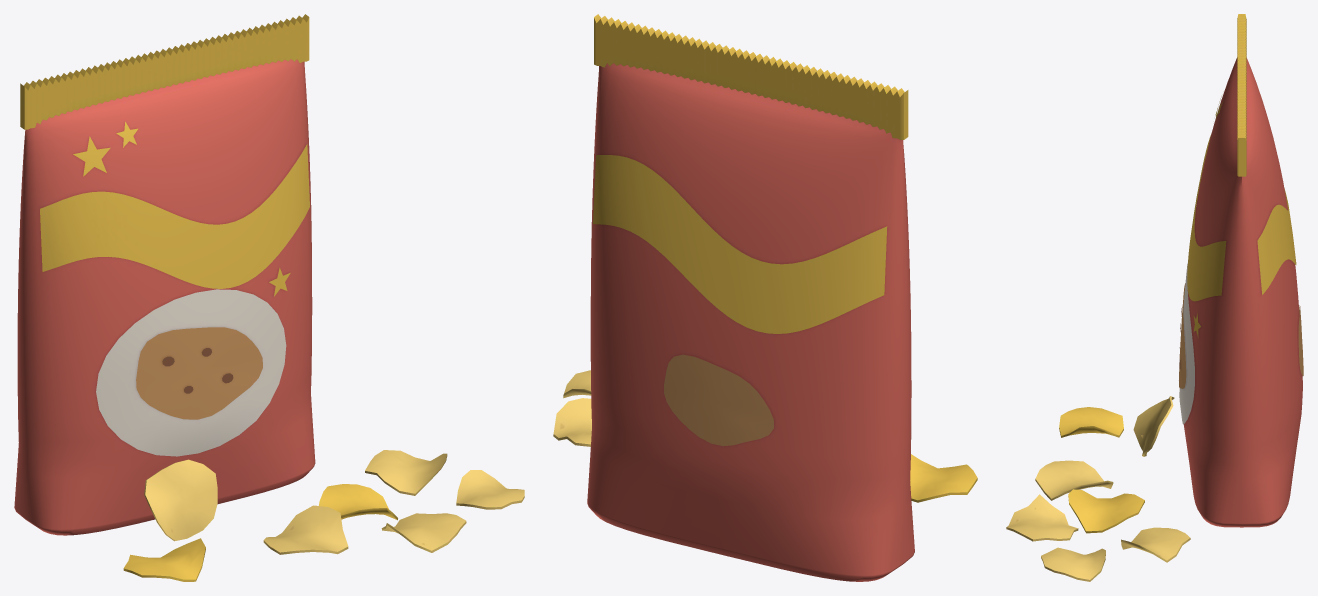
Rendered from chips-bag.glb.
3 renders of one model, left to right at view 1: azimuth 30°, elevation 25°; view 2: azimuth 150°, elevation 25°; view 3: azimuth 270°, elevation 25°, orthographic. The views are drawn at different scales.
Visible parts, largest first — view 1: chips-bag_body; view 2: chips-bag_body; view 3: chips-bag_body.
Part boxes in pixels (bbox=[...]): chips-bag_body: bbox=[14, 14, 524, 581]; chips-bag_body: bbox=[553, 14, 977, 581]; chips-bag_body: bbox=[1006, 14, 1303, 581].
Bounding box in the file's own units: 0.2616 × 0.2728 × 0.1867.
Materials: 1 (1 with a texture image).
